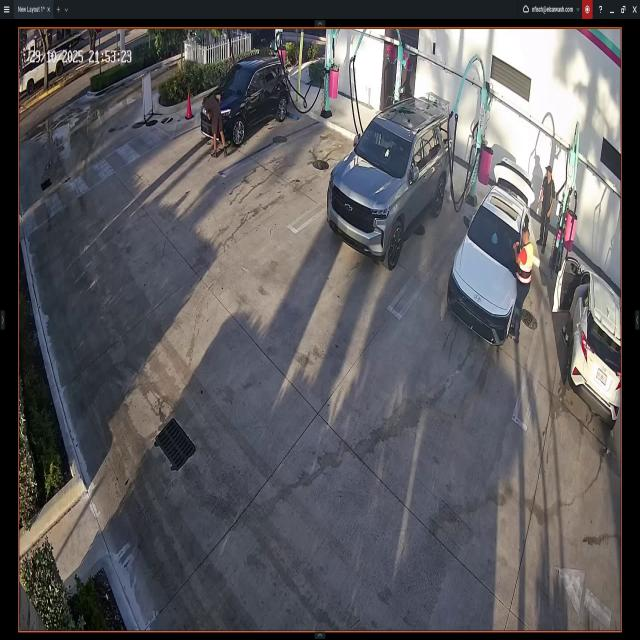Car: (328, 96, 450, 265), (450, 157, 532, 350), (562, 254, 619, 422), (202, 55, 287, 145), (246, 26, 275, 52)
